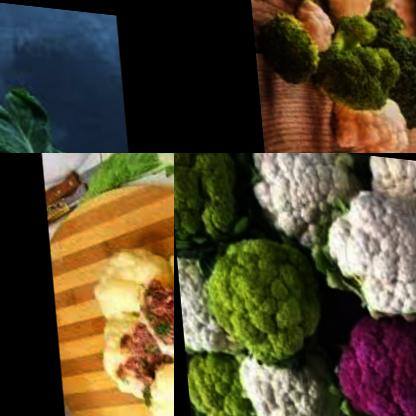broccoli: (311, 12, 400, 116), (257, 9, 328, 91), (370, 17, 416, 134)
cayliflower: (191, 217, 321, 368), (310, 177, 416, 320), (240, 153, 359, 260), (317, 300, 416, 416), (77, 224, 174, 330), (218, 337, 335, 416), (174, 153, 259, 255), (87, 308, 170, 404), (174, 246, 238, 361), (313, 81, 406, 153), (351, 153, 416, 245), (178, 344, 254, 416), (0, 67, 63, 153), (287, 0, 335, 56), (134, 357, 174, 416), (320, 0, 379, 18)
